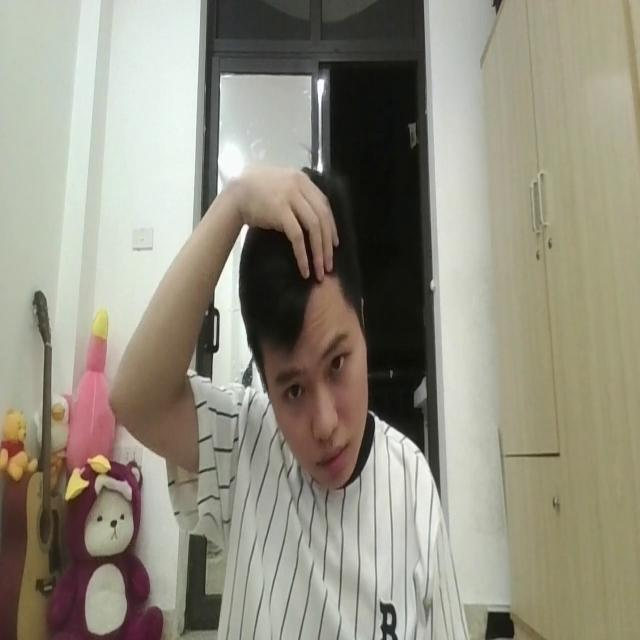student: (111, 144, 463, 640)
